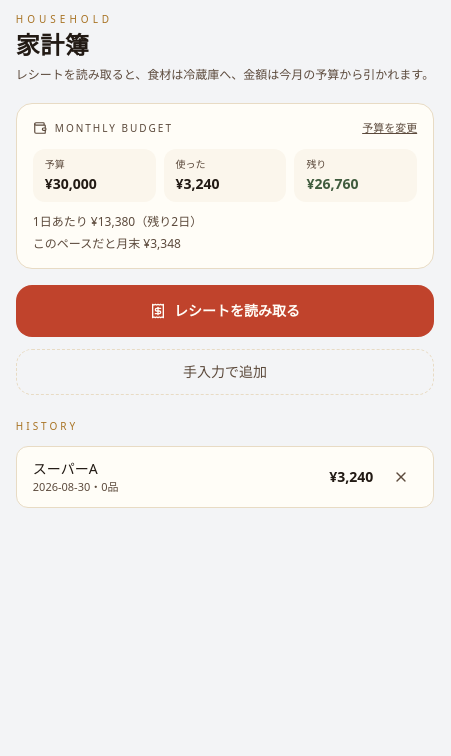
BudgetPageClient › recalculates the remaining budget after an edit
Click the button "スーパーA 2026-08-30・0品" at (65, 468), box [33,458,317,495]
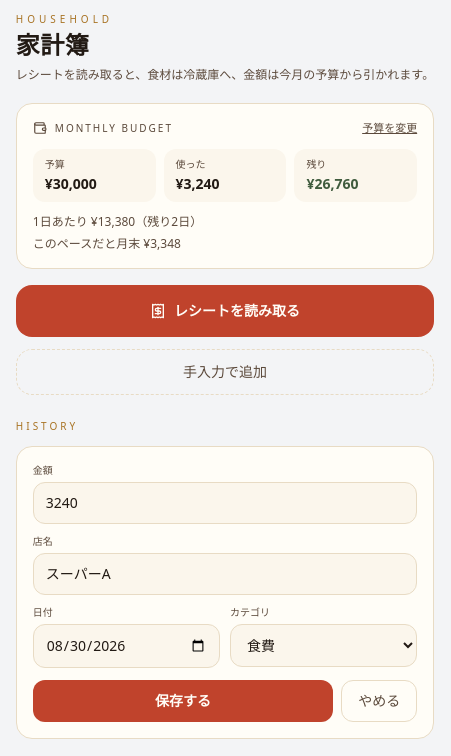
Replace the text in the field labelled "金額" with "2000" at (225, 502), box [33,482,417,524]
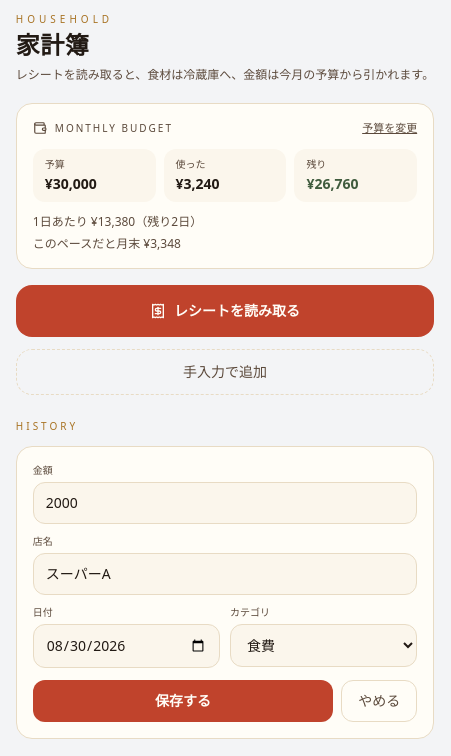
Click the button "保存する" at (183, 700), box [33,680,333,722]
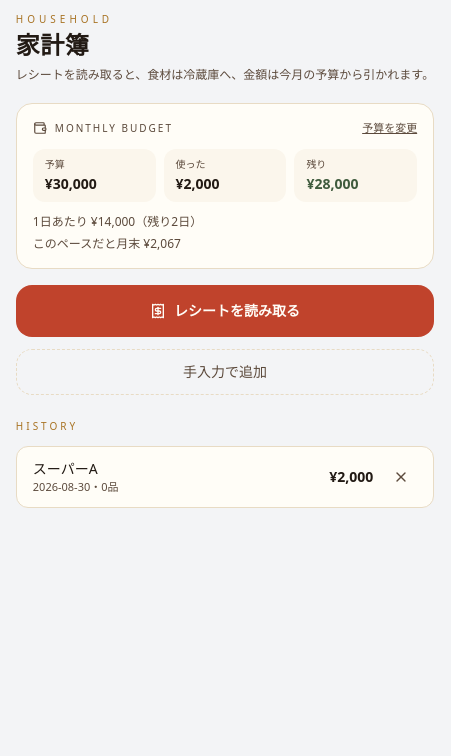
Expected: the text "¥28,000" is shown, [306,174,358,192]
